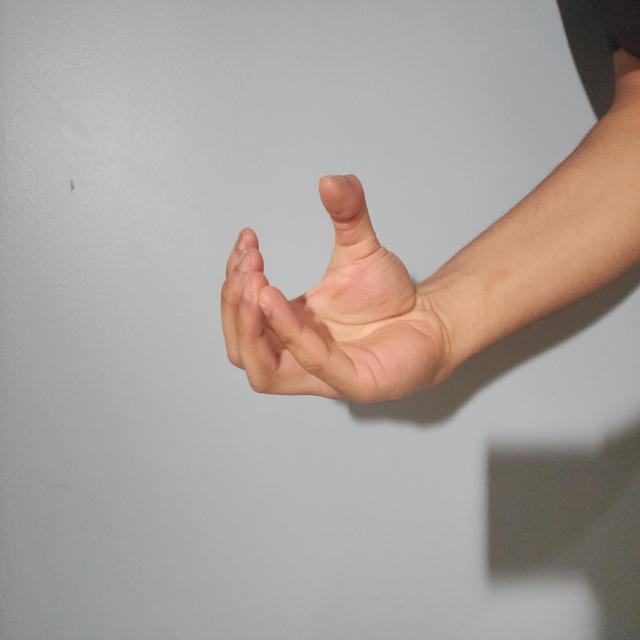C: (175, 292, 354, 608)
